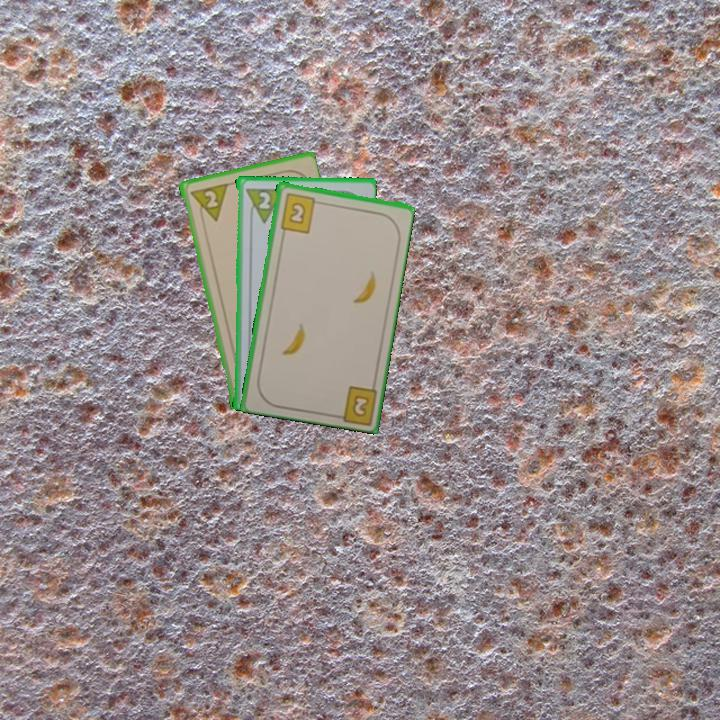2b: (276, 189, 323, 235), (349, 391, 372, 420)
2p: (200, 186, 220, 210), (255, 188, 273, 212)
